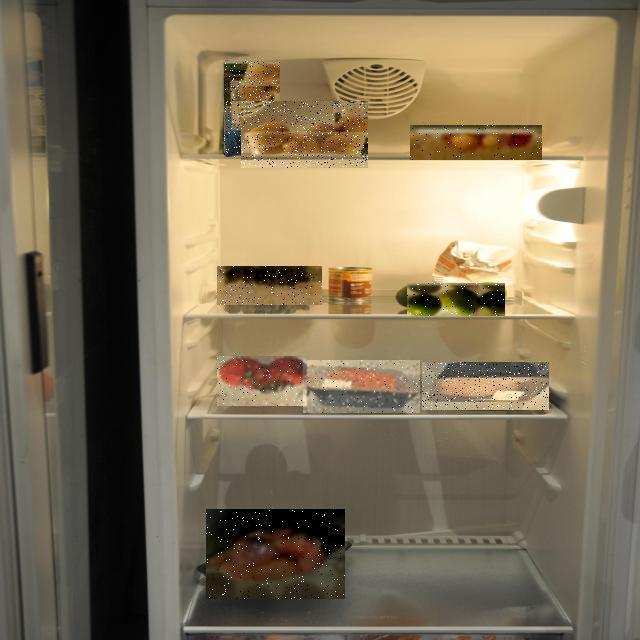egg: (139, 80, 640, 240)
milk: (84, 78, 364, 235)
potato: (57, 84, 425, 252)
tomato: (64, 203, 370, 609)
